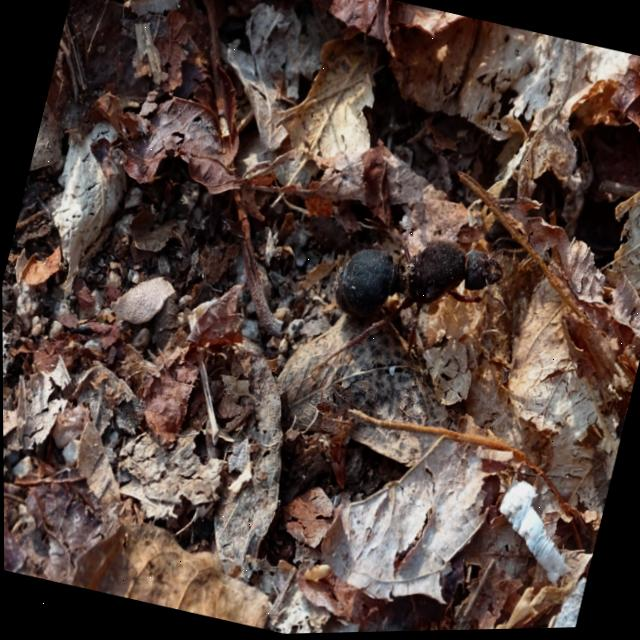Alive-Female-Dealate: (307, 205, 529, 421)
